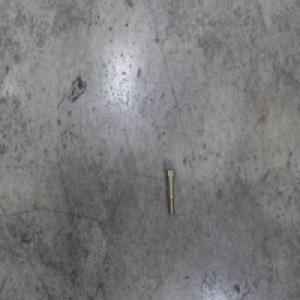Bolt: (164, 167, 176, 216)
